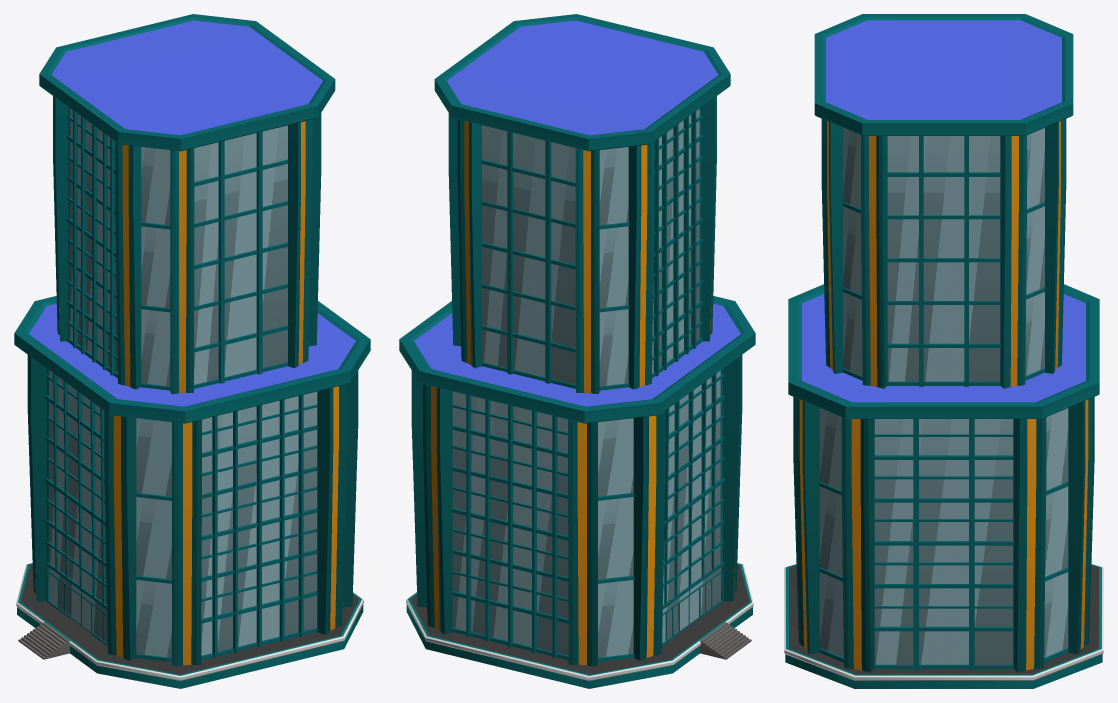
File: Building_7_2_F.fbx
The picture shows the model from 3 angles, left to right: view 1: azimuth 30°, elevation 25°; view 2: azimuth 150°, elevation 25°; view 3: azimuth 270°, elevation 25°; orthographic projection. The views are drawn at different scales.
Parts seen in each view (by area): view 1: Building_7_2_F; view 2: Building_7_2_F; view 3: Building_7_2_F.
Part boxes in pixels (<box>): Building_7_2_F: <box>14,14,370,688</box>; Building_7_2_F: <box>399,14,755,688</box>; Building_7_2_F: <box>784,14,1103,688</box>.
Bounding box in the file's own units: 2520 × 4418 × 2311.
